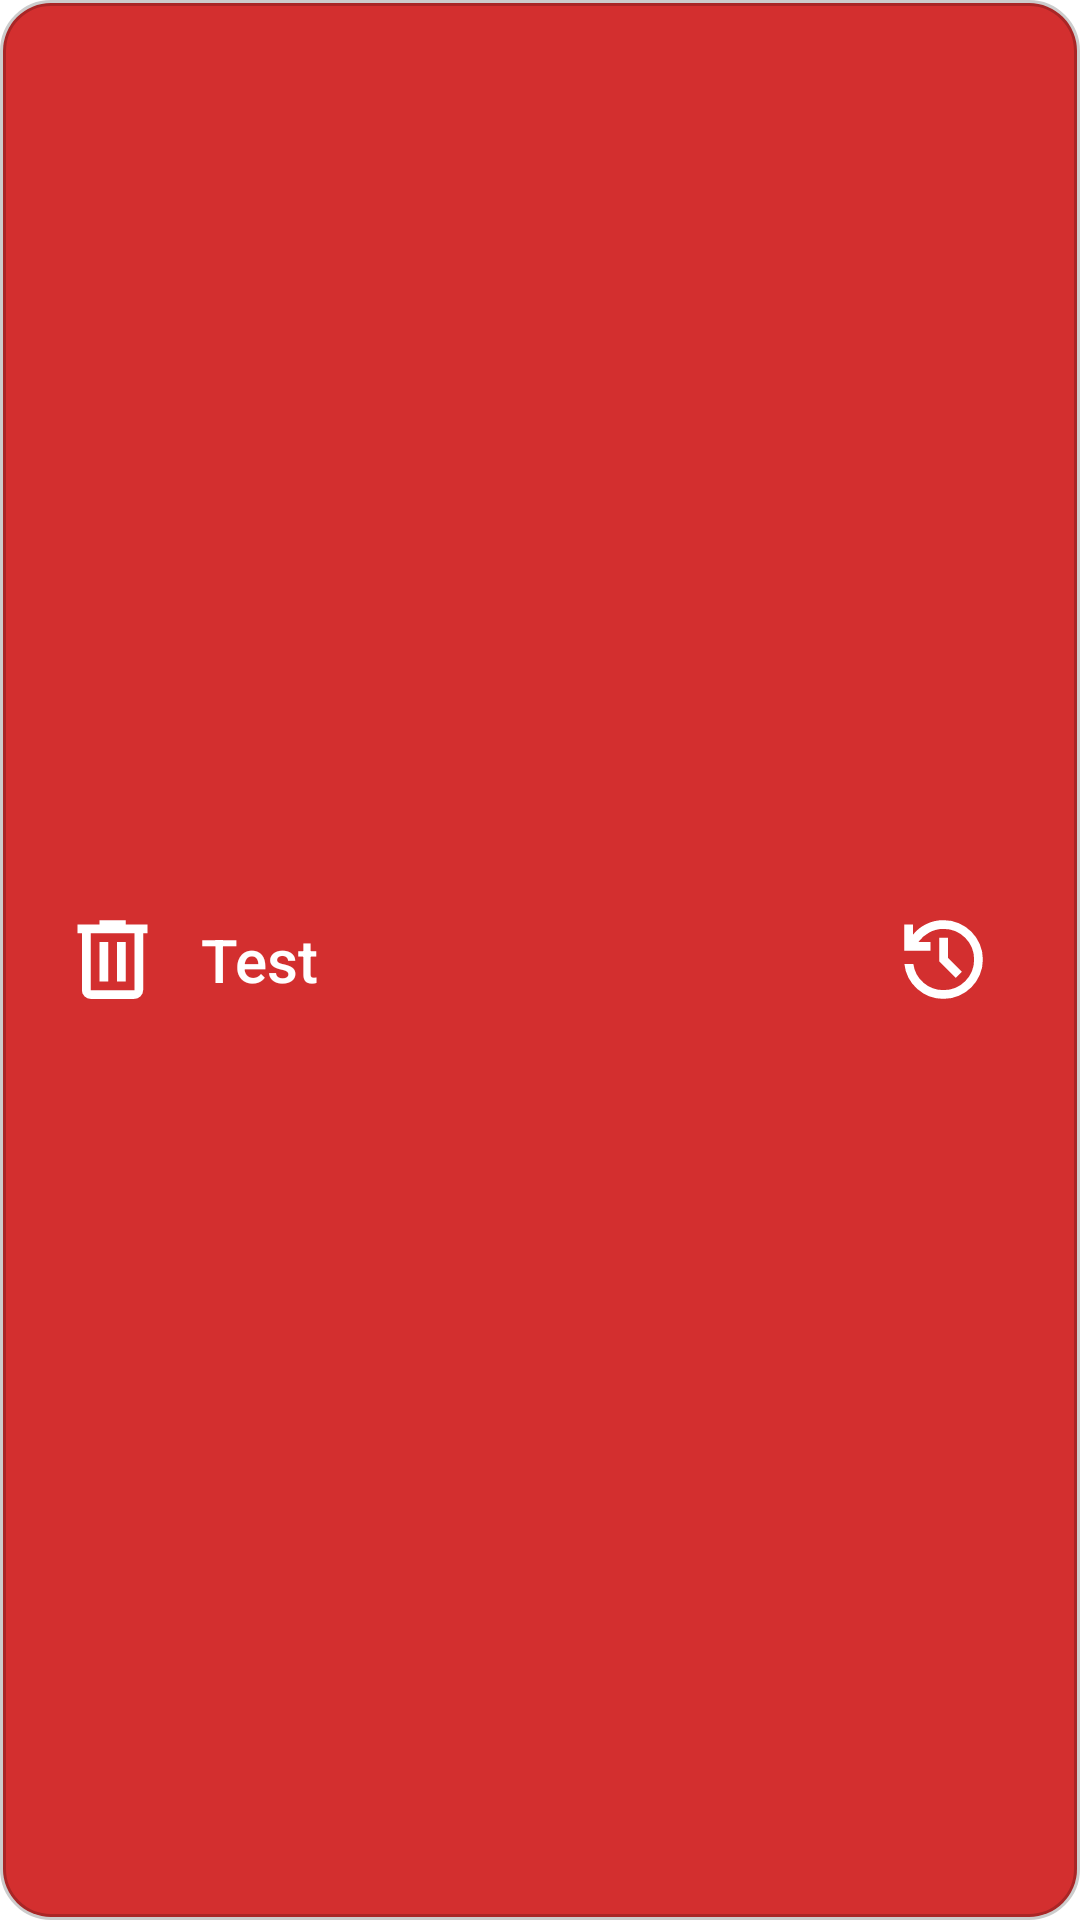

Icons on this 1080w x 1920h Android screen, each with the point to tap as point (x, y):
delete: point (112, 959)
